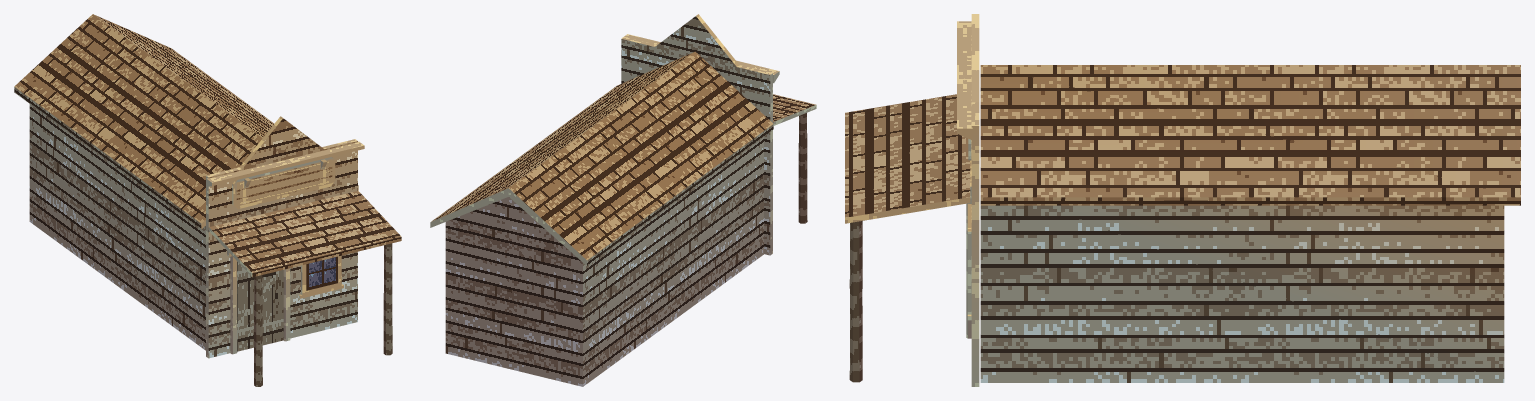
Rendered from wtown.sheriff__office.glb.
3 renders of one model, left to right at view 1: azimuth 30°, elevation 25°; view 2: azimuth 150°, elevation 25°; view 3: azimuth 270°, elevation 25°, orthographic. The views are drawn at different scales.
Visible parts, largest first — view 1: kit_roof, kit_body, kit_front, kit_porch, kit_card_panes, kit_trim, kit_windows; view 2: kit_body, kit_roof, kit_front, kit_porch, kit_trim; view 3: kit_body, kit_roof, kit_porch, kit_front, kit_trim, kit_windows.
Boxes of the visible parts, box(x1,y1,x2,y2) form: kit_roof: box(14, 14, 358, 229); kit_body: box(29, 104, 205, 350); kit_front: box(206, 116, 357, 358); kit_porch: box(209, 190, 401, 386); kit_card_panes: box(236, 159, 337, 351); kit_trim: box(206, 141, 364, 354); kit_windows: box(298, 255, 343, 298); kit_body: box(445, 137, 763, 386); kit_roof: box(430, 51, 773, 265); kit_front: box(621, 14, 772, 255); kit_porch: box(773, 94, 816, 223); kit_trim: box(622, 34, 779, 83); kit_body: box(980, 205, 1504, 382); kit_roof: box(980, 65, 1520, 205); kit_porch: box(845, 94, 970, 382); kit_front: box(971, 14, 979, 386); kit_trim: box(957, 21, 972, 338); kit_windows: box(967, 204, 971, 320).
Bounding box in the file's own units: 4 × 5.4 × 10.32.
7 materials, 7 textured.
